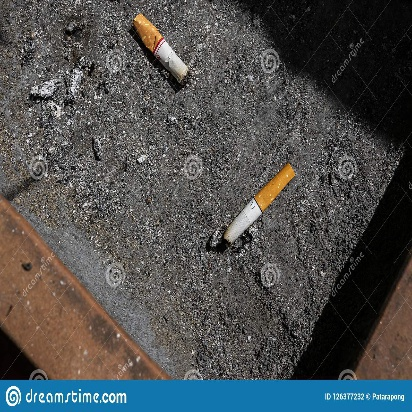cigarette: (223, 163, 301, 249), (124, 10, 195, 91)
